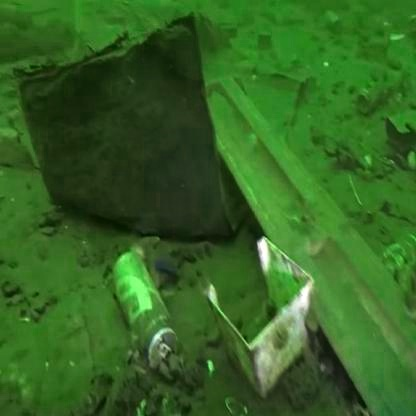can: (99, 242, 169, 394)
plastic: (221, 242, 326, 380)
